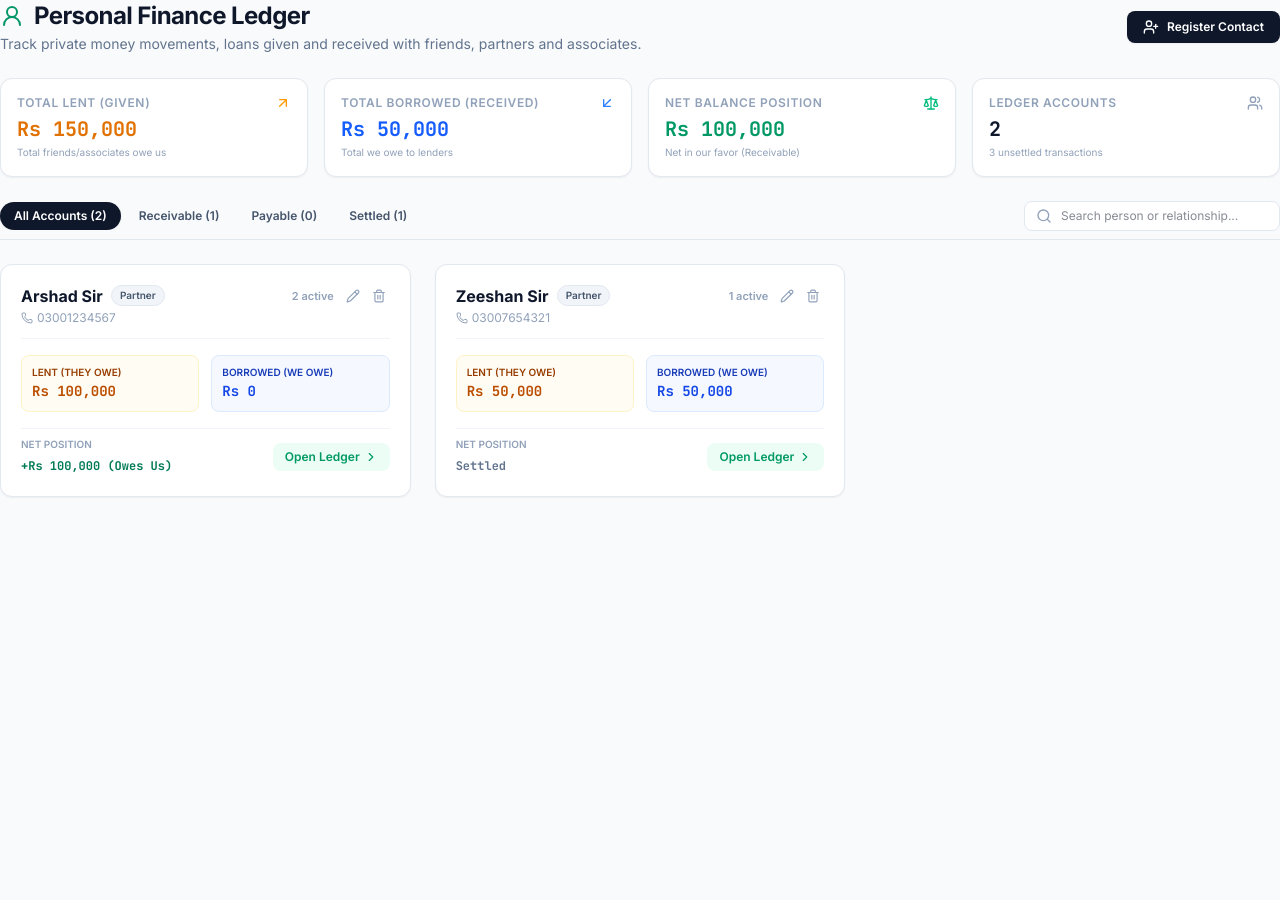
Personal Ledger Page (/personal) › opens EditContactModal when Edit button is clicked
Click the button titled "Edit contact" in the row of "Arshad Sir" at (353, 296), box [342, 285, 364, 307]
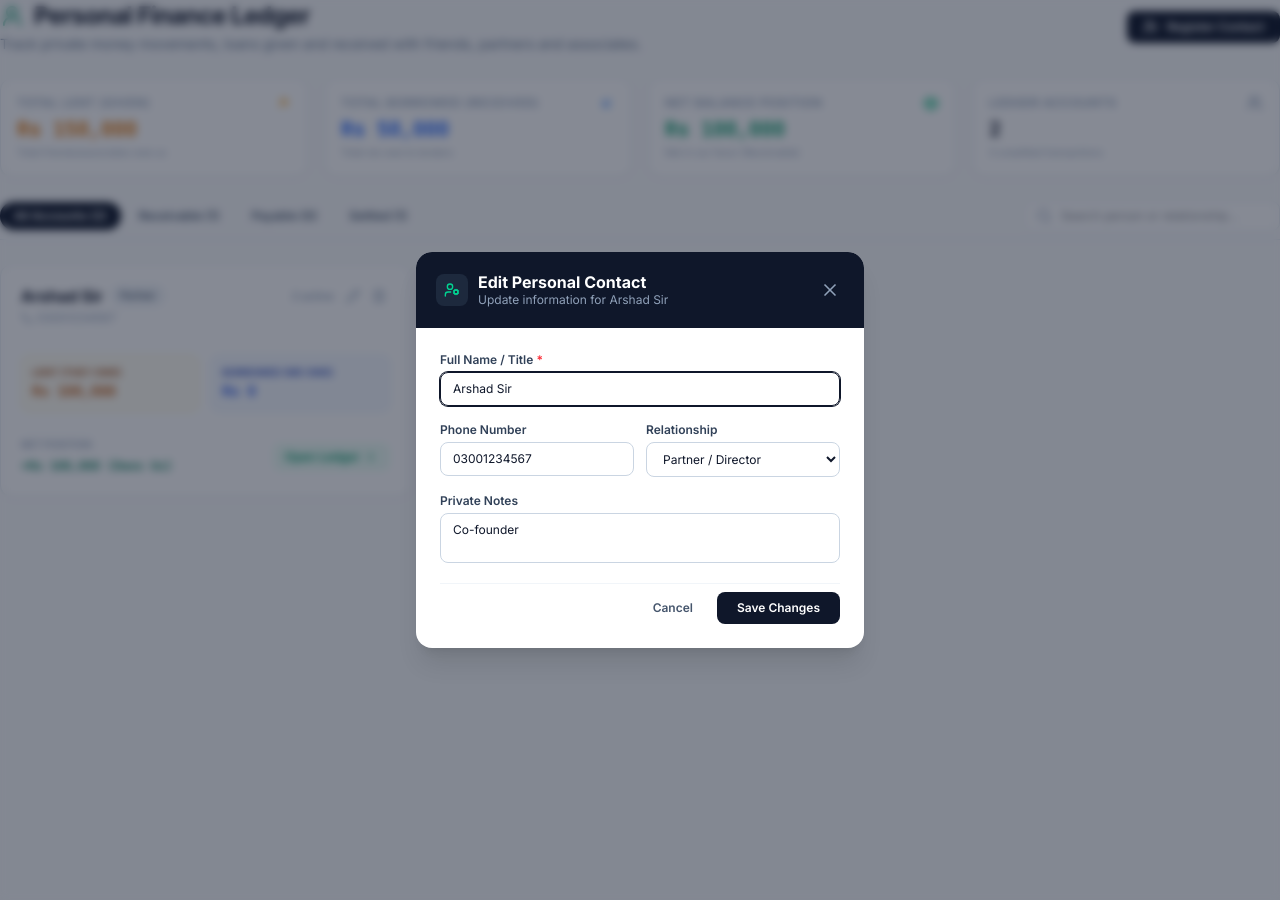
Check: the heading "Edit Personal Contact" is shown, box [478, 272, 668, 292]
Check: the field showing "Arshad Sir" below "Full Name / Title" is shown, box [440, 372, 840, 406]
